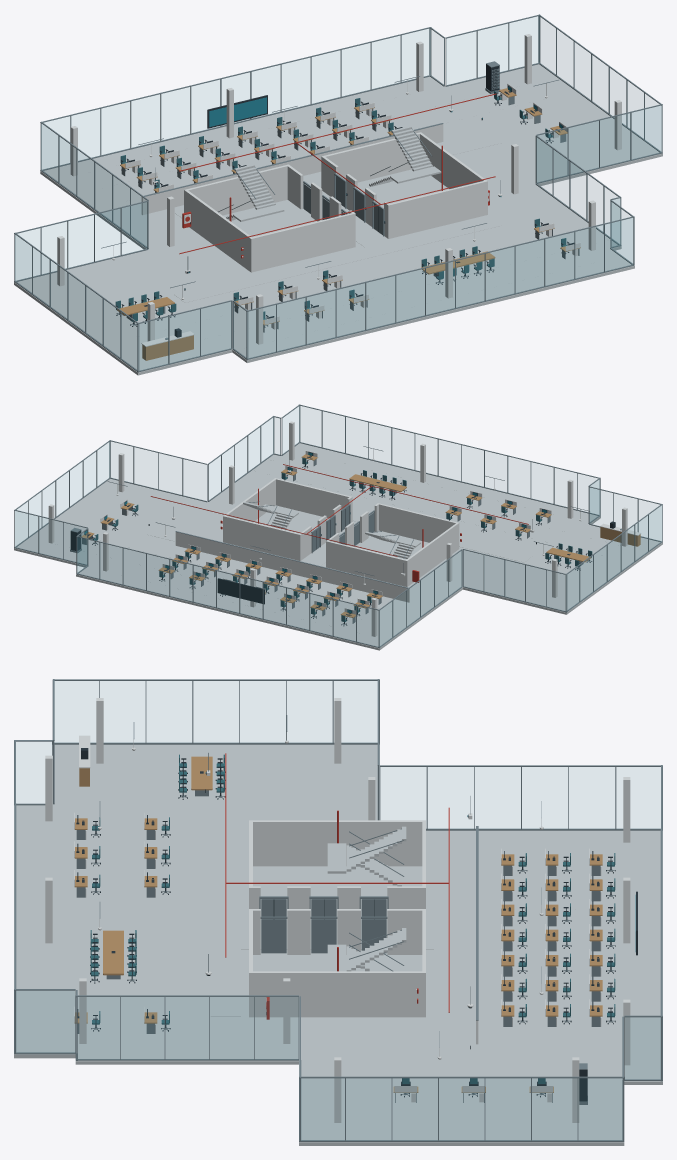
3 views of the same model, one above another, from view 1: azimuth 30°, elevation 25°; view 2: azimuth 150°, elevation 25°; view 3: azimuth 270°, elevation 25° (orthographic). The views are drawn at different scales.
Parts seen in each view (by area): view 1: T1_F04_SLAB, T1_F04_WHITE, T1_F04_GLASS_S, T1_F04_GLASS_N, T1_F04_STEEL, T1_F04_GLASS_W, T1_F04_GLASS_E, T1_F04_WOOD, T1_F04_FABRIC, T1_F04_DARK, T1_F04_RED, T1_F04_SCREEN; view 2: T1_F04_SLAB, T1_F04_WHITE, T1_F04_GLASS_N, T1_F04_GLASS_S, T1_F04_STEEL, T1_F04_GLASS_W, T1_F04_GLASS_E, T1_F04_WOOD, T1_F04_DARK, T1_F04_FABRIC, T1_F04_RED, T1_F04_SCREEN; view 3: T1_F04_SLAB, T1_F04_GLASS_E, T1_F04_GLASS_W, T1_F04_WHITE, T1_F04_STEEL, T1_F04_WOOD, T1_F04_DARK, T1_F04_FABRIC, T1_F04_RED.
Boxes of the visible parts, x1=… form: T1_F04_SLAB: x1=14, y1=64, x2=662, y2=375; T1_F04_WHITE: x1=57, y1=34, x2=621, y2=346; T1_F04_GLASS_S: x1=140, y1=106, x2=660, y2=370; T1_F04_GLASS_N: x1=19, y1=17, x2=538, y2=267; T1_F04_STEEL: x1=14, y1=14, x2=662, y2=372; T1_F04_GLASS_W: x1=15, y1=125, x2=245, y2=369; T1_F04_GLASS_E: x1=431, y1=18, x2=657, y2=243; T1_F04_WOOD: x1=117, y1=88, x2=580, y2=360; T1_F04_FABRIC: x1=115, y1=90, x2=567, y2=321; T1_F04_DARK: x1=116, y1=64, x2=574, y2=337; T1_F04_RED: x1=179, y1=93, x2=496, y2=258; T1_F04_SCREEN: x1=156, y1=75, x2=562, y2=289; T1_F04_SLAB: x1=14, y1=443, x2=662, y2=650; T1_F04_WHITE: x1=48, y1=421, x2=641, y2=636; T1_F04_GLASS_N: x1=15, y1=512, x2=564, y2=646; T1_F04_GLASS_S: x1=110, y1=406, x2=657, y2=527; T1_F04_STEEL: x1=14, y1=404, x2=662, y2=648; T1_F04_GLASS_W: x1=380, y1=480, x2=661, y2=645; T1_F04_GLASS_E: x1=18, y1=408, x2=298, y2=536; T1_F04_WOOD: x1=81, y1=454, x2=640, y2=617; T1_F04_DARK: x1=70, y1=452, x2=615, y2=626; T1_F04_FABRIC: x1=92, y1=457, x2=592, y2=621; T1_F04_RED: x1=150, y1=464, x2=528, y2=582; T1_F04_SCREEN: x1=84, y1=452, x2=546, y2=613; T1_F04_SLAB: x1=14, y1=744, x2=662, y2=1145; T1_F04_GLASS_E: x1=16, y1=991, x2=660, y2=1139; T1_F04_GLASS_W: x1=16, y1=681, x2=660, y2=828; T1_F04_WHITE: x1=45, y1=698, x2=630, y2=1122; T1_F04_STEEL: x1=14, y1=679, x2=662, y2=1141; T1_F04_WOOD: x1=74, y1=756, x2=602, y2=1092; T1_F04_DARK: x1=76, y1=748, x2=637, y2=1101; T1_F04_FABRIC: x1=90, y1=754, x2=615, y2=1083; T1_F04_RED: x1=225, y1=753, x2=449, y2=1019.
Bounding box in the file's own units: 55.47 × 4.5 × 38.19.
